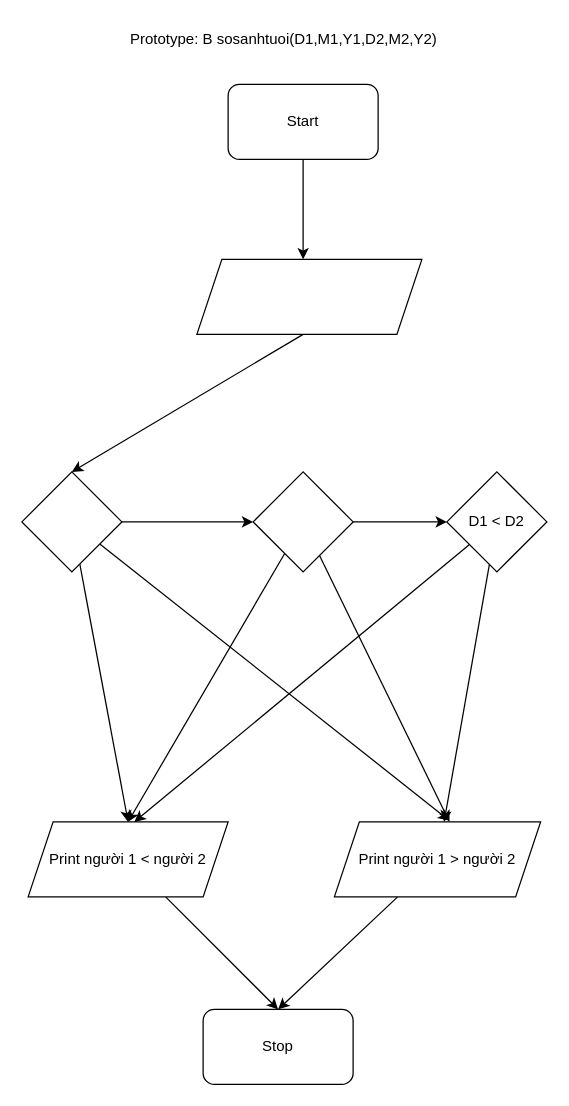
The diagram is 569 pixels wide and 1106 high, and some of its shapes have lost their labels. The shapes that lost their labels are listed below. From the top down, each one's centre as x and y in pixels, then its label:
At pixel 309 296: "Input D1,M1,Y1,D2,M2,Y2".
At pixel 71 521: "Y1 < Y2".
At pixel 302 521: "M1 < M2".
